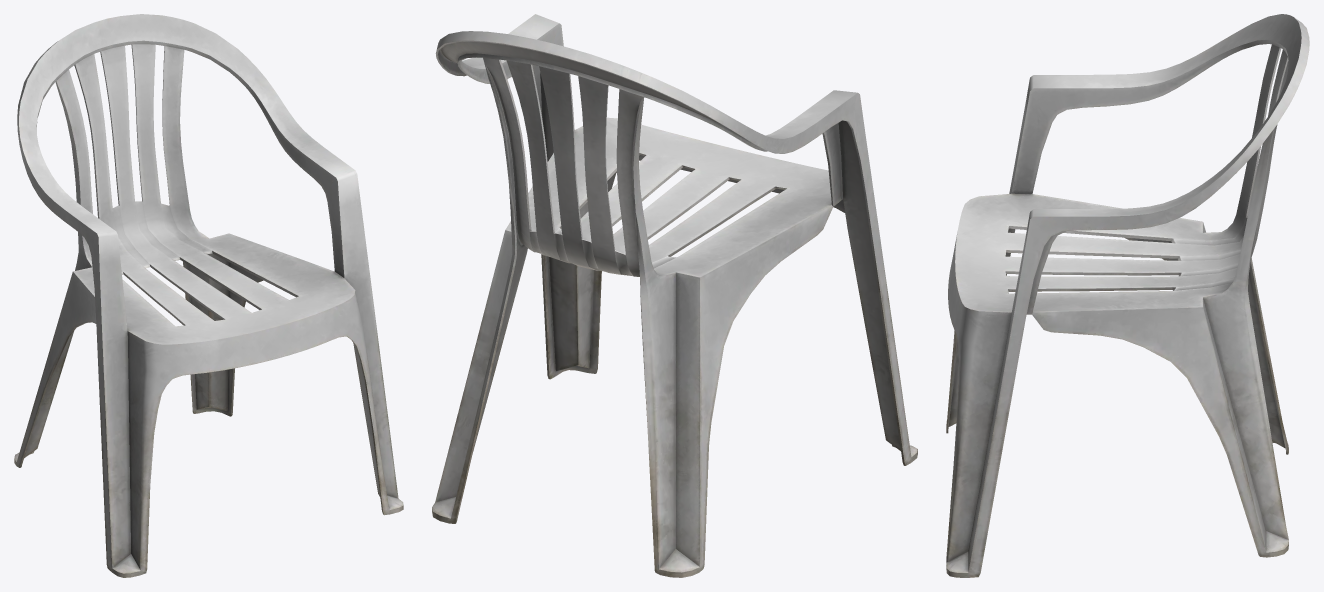
File: monobloc_chair.glb
3 renders of one model, left to right at view 1: azimuth 30°, elevation 25°; view 2: azimuth 150°, elevation 25°; view 3: azimuth 270°, elevation 25°, orthographic. The views are drawn at different scales.
Parts seen in each view (by area): view 1: plastic_monobloc_chair_01; view 2: plastic_monobloc_chair_01; view 3: plastic_monobloc_chair_01.
Part boxes in pixels (<box>): plastic_monobloc_chair_01: <box>14,14,403,577</box>; plastic_monobloc_chair_01: <box>432,14,917,577</box>; plastic_monobloc_chair_01: <box>946,14,1309,577</box>.
Bounding box in the file's own units: 0.6418 × 0.8798 × 0.6276.
1 material, 1 textured.
